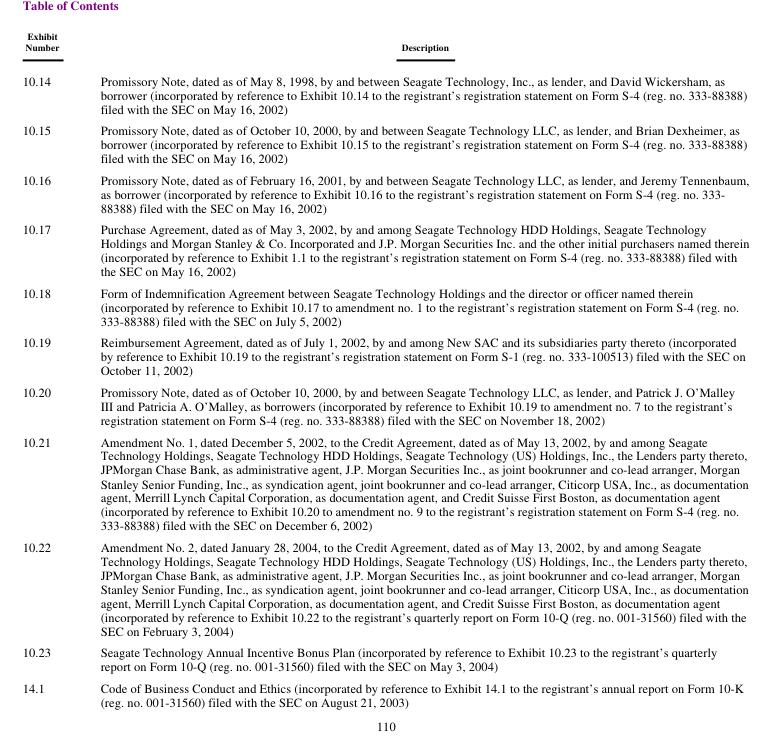table: (21, 29, 748, 709)
table column: (79, 29, 748, 709), (21, 29, 79, 709)
table column header: (21, 29, 748, 62)
table row: (21, 429, 748, 535), (21, 535, 748, 640), (21, 217, 748, 281), (21, 62, 748, 118), (21, 118, 748, 168), (21, 330, 748, 380), (21, 168, 748, 217), (21, 281, 748, 330), (21, 380, 748, 429), (21, 640, 748, 676), (21, 29, 748, 62), (21, 676, 748, 709)
